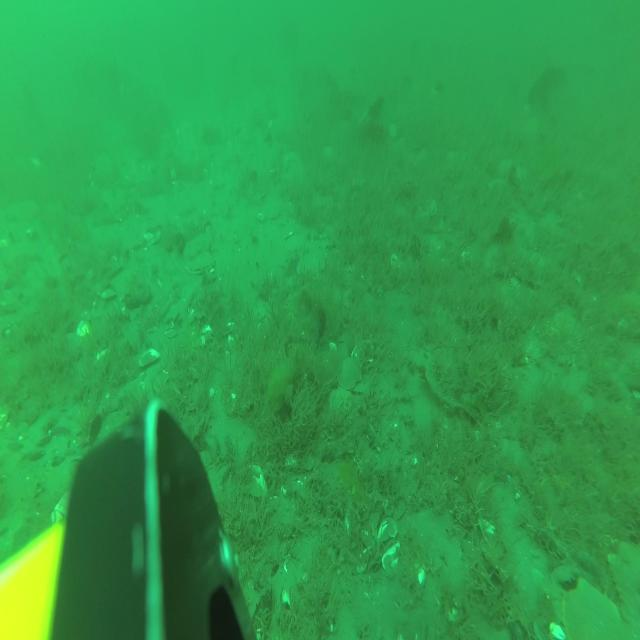scallop: (562, 576, 621, 640), (339, 355, 363, 391), (328, 386, 352, 420), (186, 250, 214, 276), (186, 232, 212, 259), (298, 252, 324, 276), (259, 197, 281, 220), (284, 232, 304, 252)
